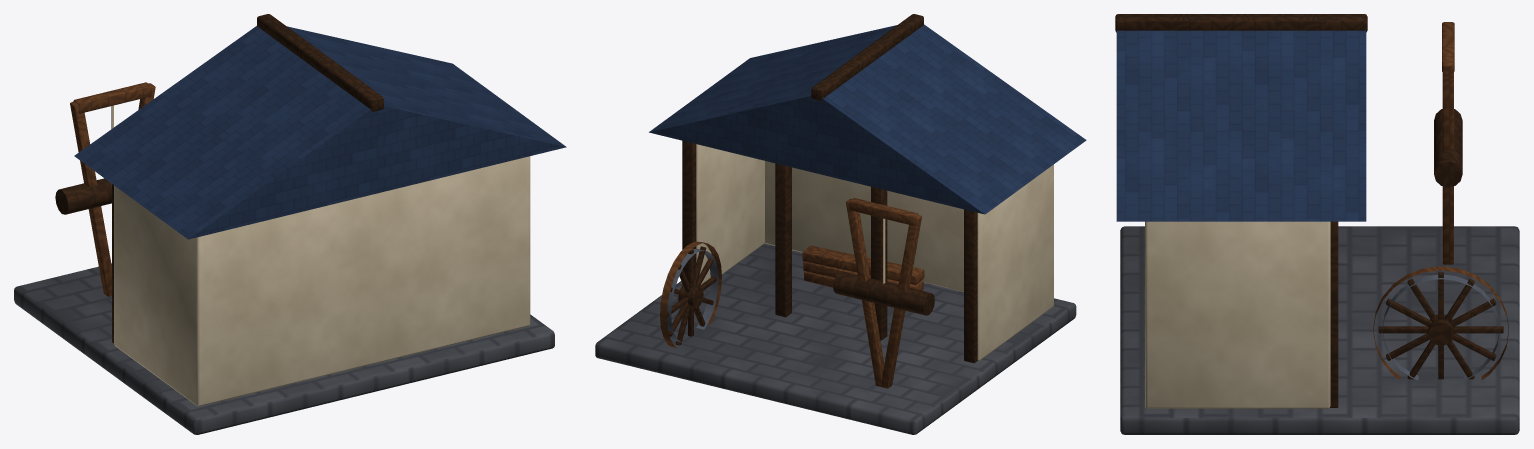
File: building_siege_workshop.glb
The picture shows the model from 3 angles, left to right: view 1: azimuth 30°, elevation 25°; view 2: azimuth 150°, elevation 25°; view 3: azimuth 270°, elevation 25°; orthographic projection. The views are drawn at different scales.
Parts seen in each view (by area): view 1: building_siege_workshop; view 2: building_siege_workshop; view 3: building_siege_workshop.
Boxes of the visible parts, x1,y1,x2,y2 form: building_siege_workshop: (14,14,566,434); building_siege_workshop: (595,14,1086,434); building_siege_workshop: (1115,14,1519,434).
Bounding box in the file's own units: 6.7 × 5.01 × 5.67.
7 materials, 6 textured.
